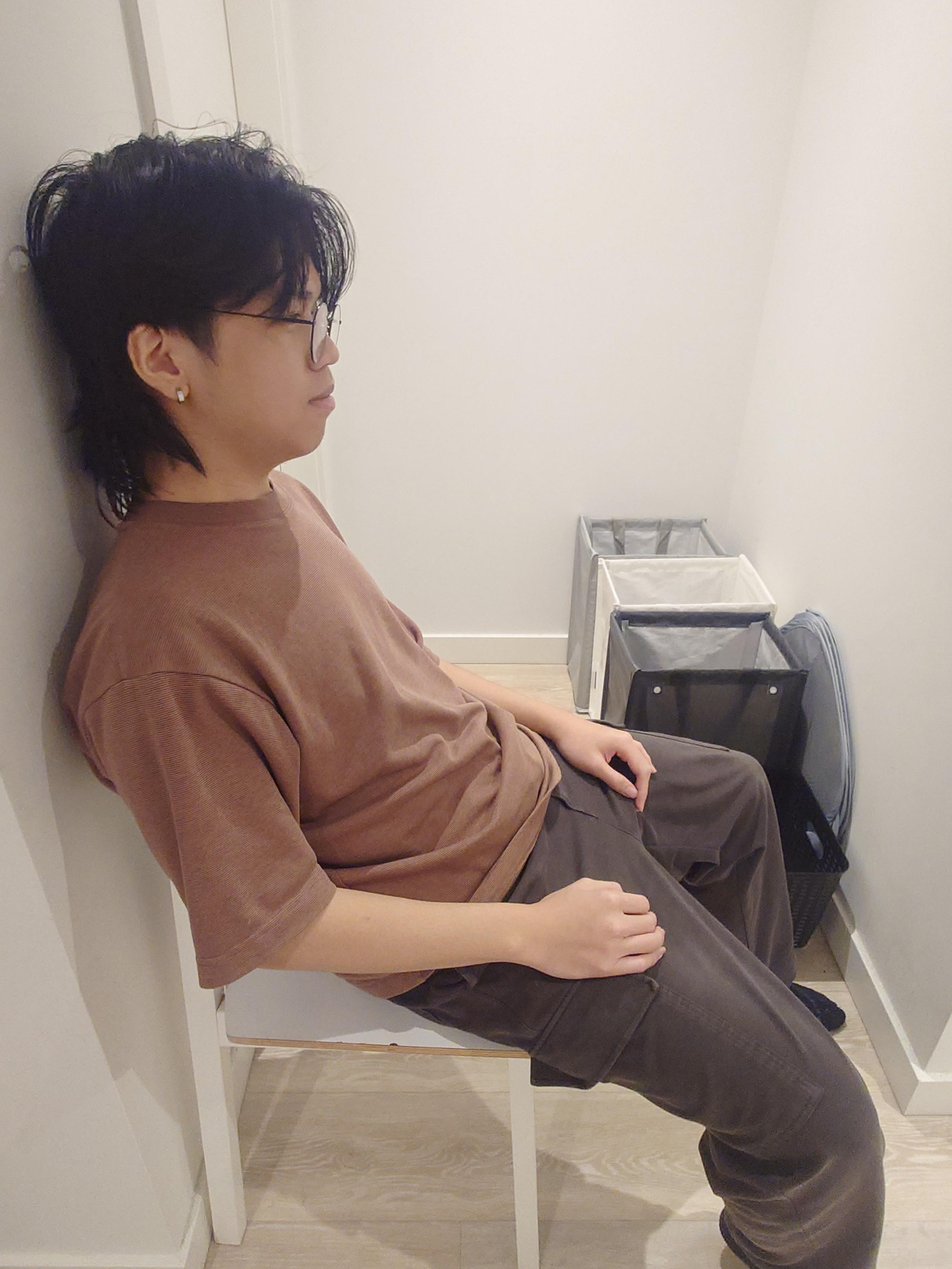BadPosture: (25, 132, 883, 1269)
